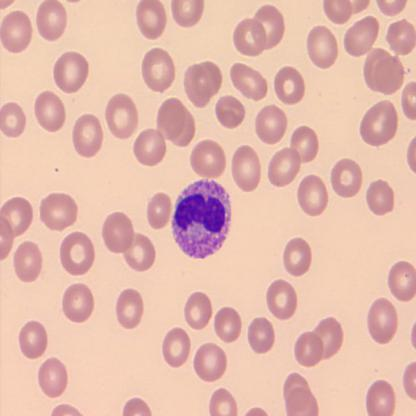Band Neutrophil: (166, 175, 235, 262)
